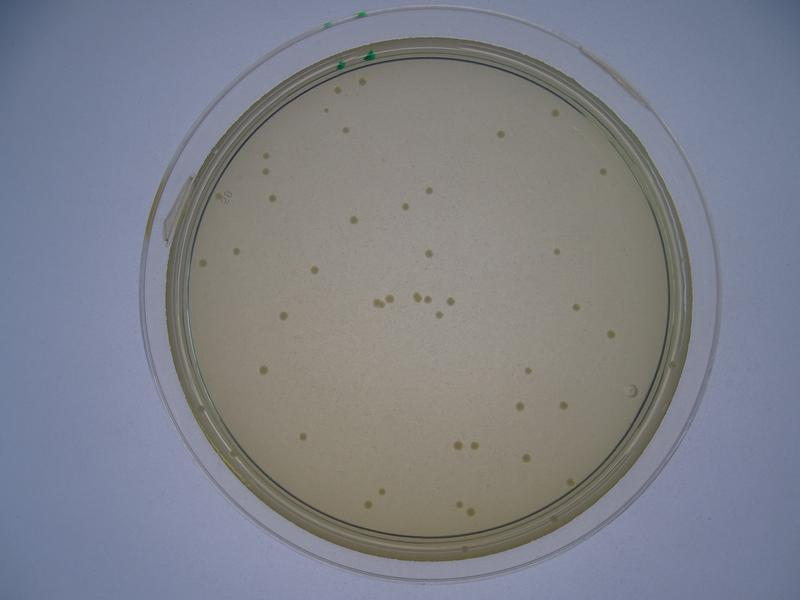colony: (255, 361, 268, 376), (556, 398, 569, 411), (423, 248, 435, 262), (267, 193, 280, 205), (230, 245, 242, 258), (450, 439, 463, 451), (519, 451, 531, 464), (361, 498, 374, 510), (277, 308, 288, 322), (470, 439, 482, 451), (296, 431, 309, 442), (571, 300, 582, 313), (340, 123, 351, 136), (495, 127, 506, 140), (377, 485, 388, 498), (348, 213, 358, 227), (308, 264, 320, 275), (424, 185, 435, 197), (598, 165, 609, 177), (524, 364, 534, 376), (514, 401, 525, 411), (401, 200, 411, 211), (606, 328, 615, 339), (553, 244, 561, 256), (551, 108, 560, 118)
